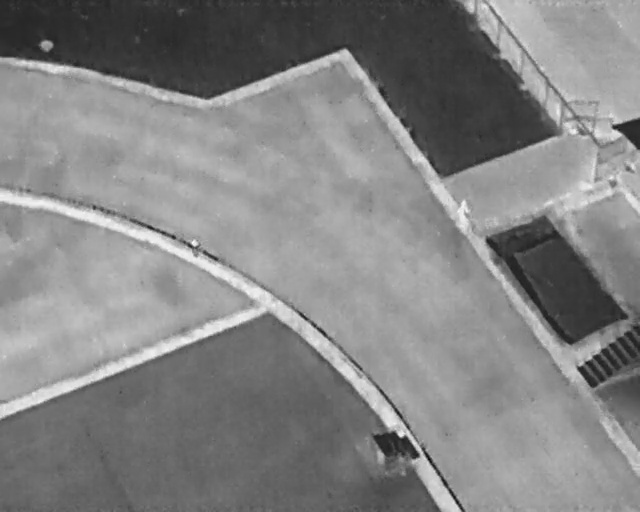Person: (455, 198, 471, 226), (188, 237, 202, 260)
